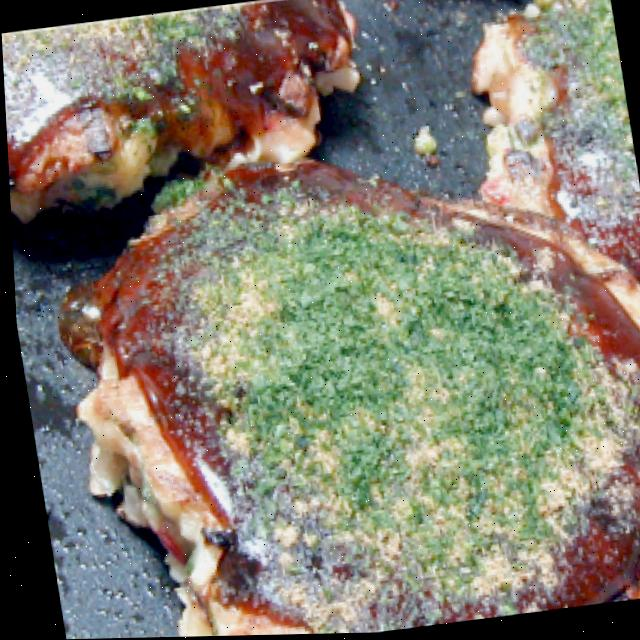蛋糕甜品: (45, 109, 640, 639)
